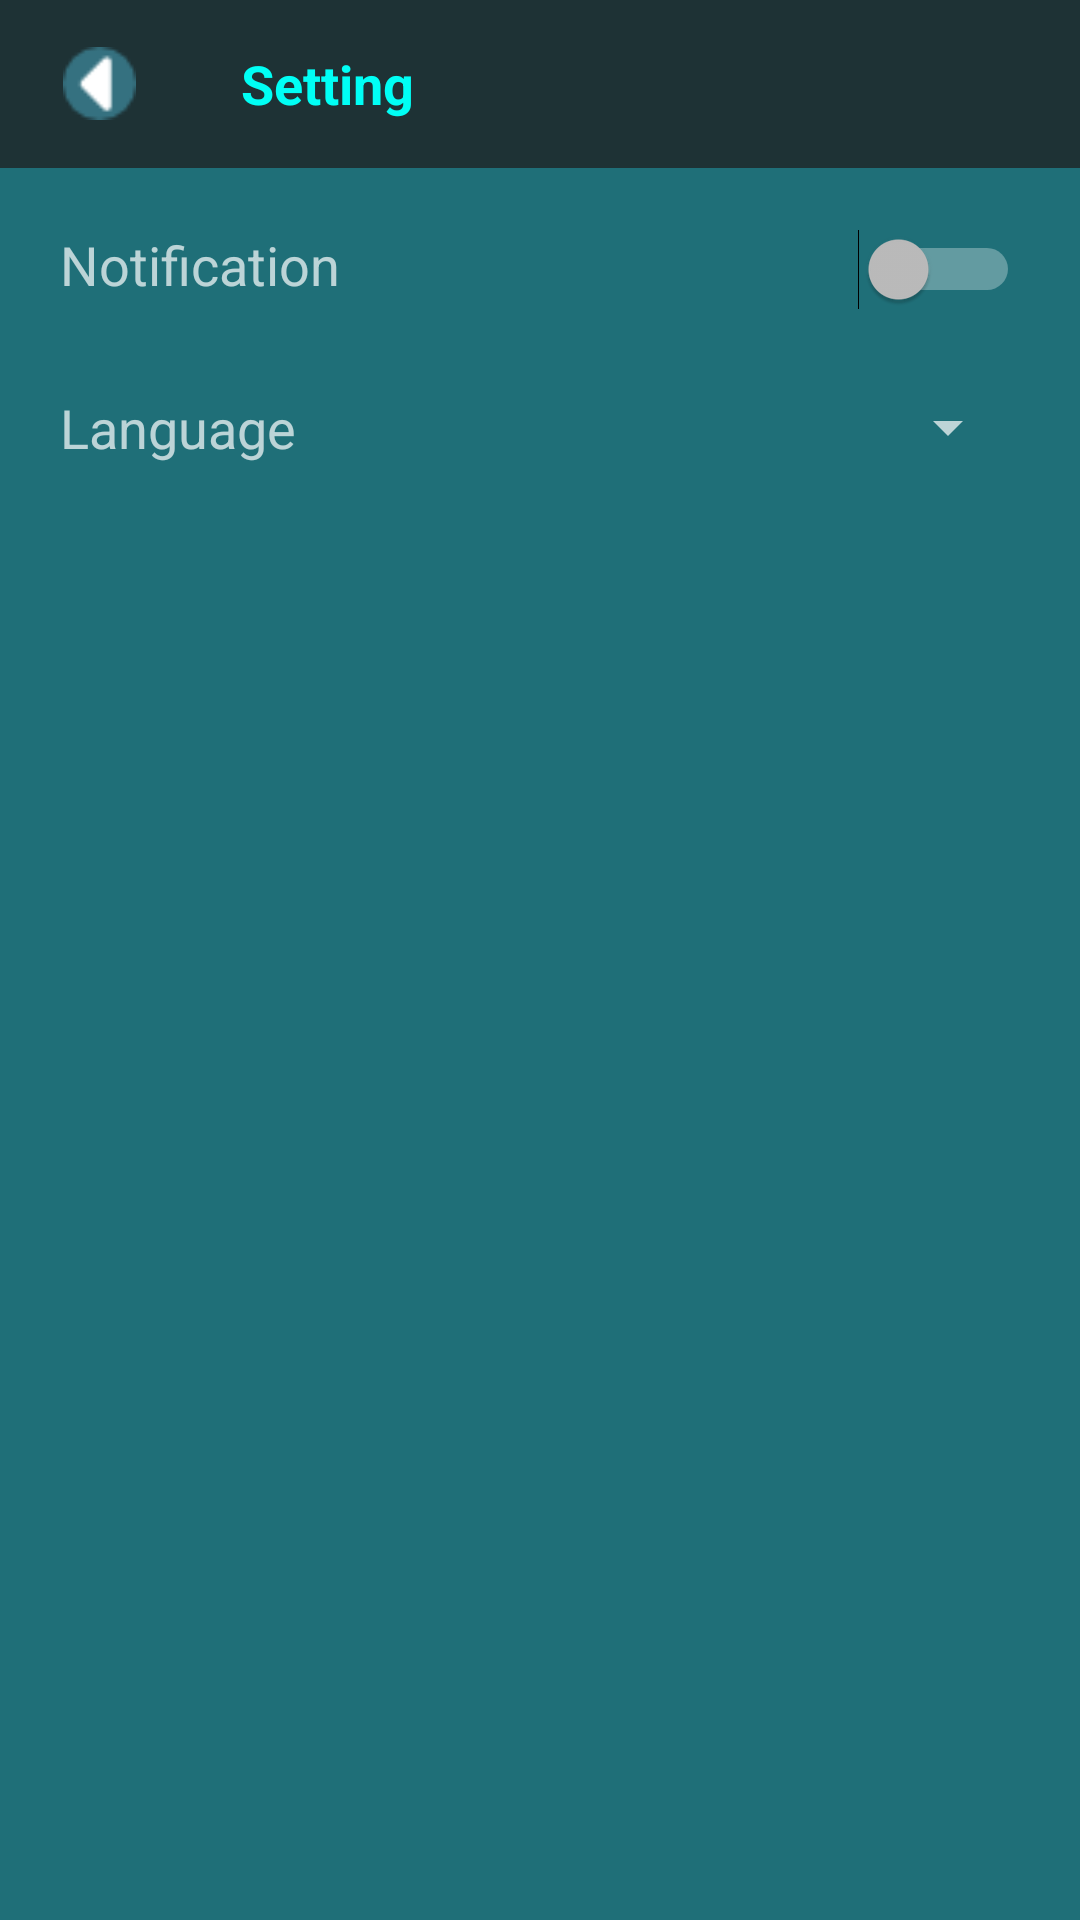

Where icons sit on this 1080w x 1920h app screen, as (x1, y1, x2, y2):
back: (63, 47, 136, 120)
